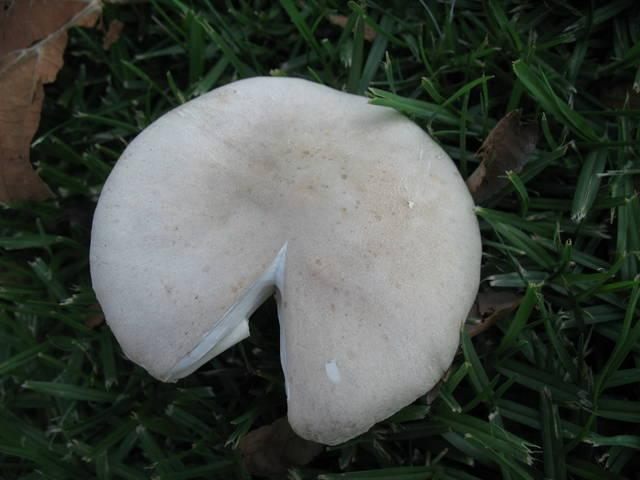Non-edible Mushroom: (87, 73, 484, 446)
